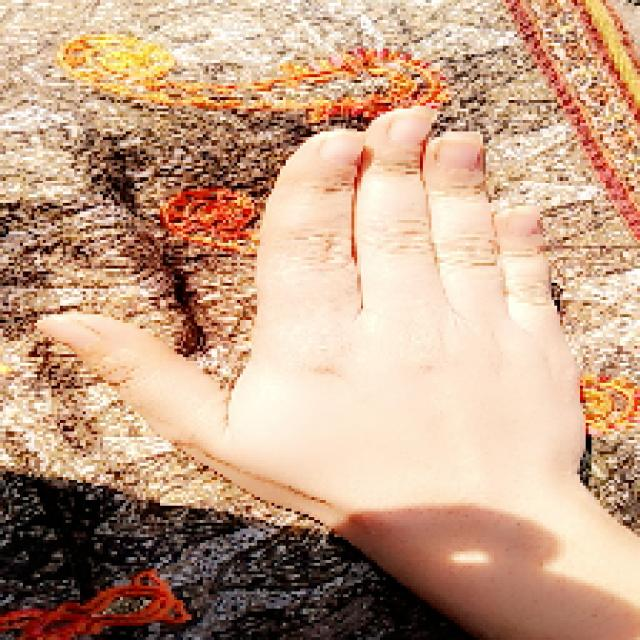Nail: (38, 315, 94, 350), (390, 106, 436, 146), (435, 132, 482, 169), (319, 130, 364, 165), (506, 206, 540, 236)
